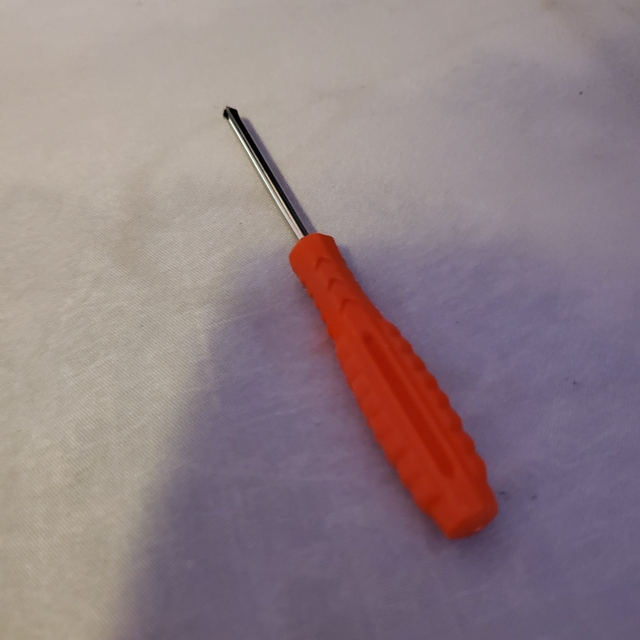screwdriver: (216, 98, 503, 548)
